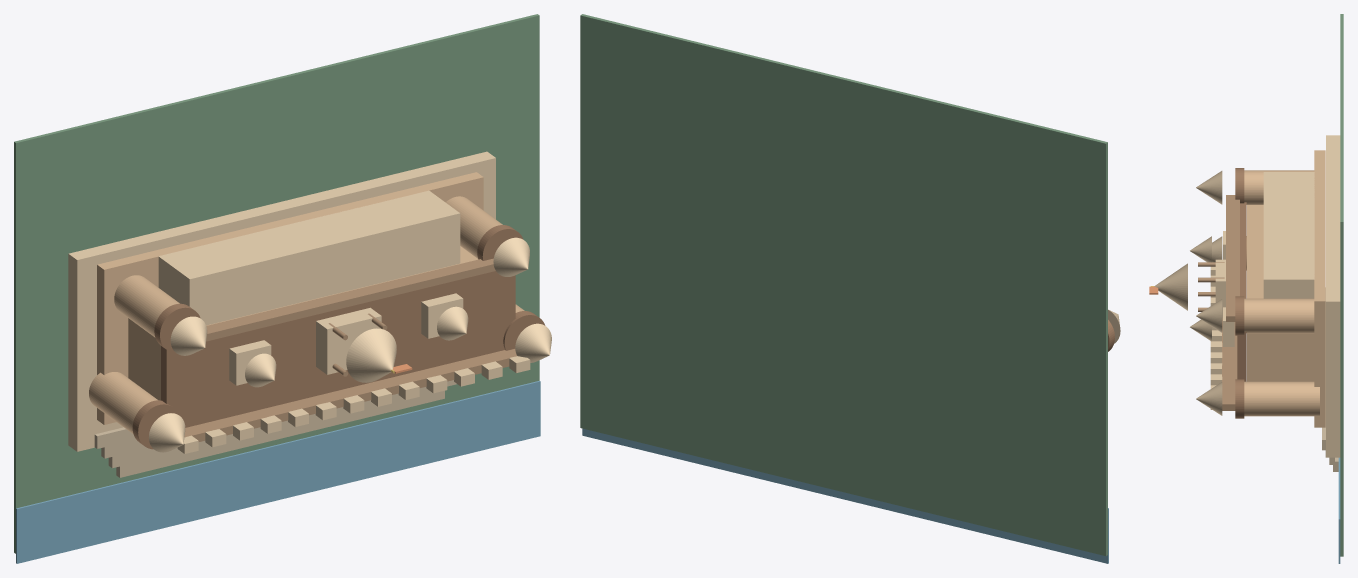
Rendered from ramnagar_fort.glb.
3 views of the same model, side by side, from view 1: azimuth 30°, elevation 25°; view 2: azimuth 150°, elevation 25°; view 3: azimuth 270°, elevation 25° (orthographic). The views are drawn at different scales.
Parts seen in each view (by area): view 1: ground_base, ganga_river_strip, rear_fort_block, wide_roof, fort_platform_lower, fort_platform_upper, parapet_back, parapet_front, ghat_step_4, main_fort_block, central_chhatri_base, round_bastion_0 (+16 smaller); view 2: ground_base, ganga_river_strip; view 3: rear_fort_block, main_fort_block, fort_platform_lower, fort_platform_upper, round_bastion_1, round_bastion_3, ground_base, parapet_back, wide_roof, parapet_front, central_chhatri_dome, round_bastion_2 (+11 smaller).
Boxes of the visible parts, x1,y1,x2,y2 form: ground_base: (14,14,539,553); ganga_river_strip: (16,381,540,563); rear_fort_block: (158,190,460,325); wide_roof: (161,272,515,427); fort_platform_lower: (68,151,495,451); fort_platform_upper: (97,172,483,424); parapet_back: (206,258,495,341); parapet_front: (184,349,516,441); ghat_step_4: (116,390,444,477); main_fort_block: (128,246,478,400); central_chhatri_base: (316,307,381,374); round_bastion_0: (89,372,157,434); ground_base: (580,14,1107,555); ganga_river_strip: (582,428,1108,563); rear_fort_block: (1263,172,1314,298); main_fort_block: (1247,205,1314,381); fort_platform_lower: (1326,135,1340,457); fort_platform_upper: (1314,150,1325,427); round_bastion_1: (1244,381,1319,416); round_bastion_3: (1244,298,1314,333); ground_base: (1340,14,1343,556); parapet_back: (1226,195,1239,321); wide_roof: (1237,202,1246,381); parapet_front: (1222,318,1237,410); central_chhatri_dome: (1154,263,1187,310); round_bastion_2: (1244,170,1314,204).
Size of the model in its own units: 12 by 9.2 by 4.74.
